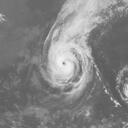cyclone: (41, 38, 92, 93)
